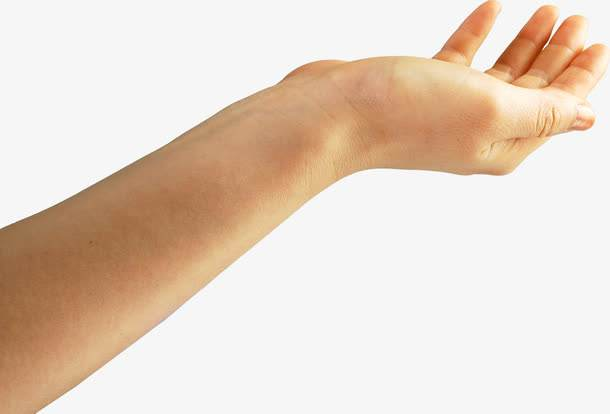no-phone: (317, 2, 609, 184)
